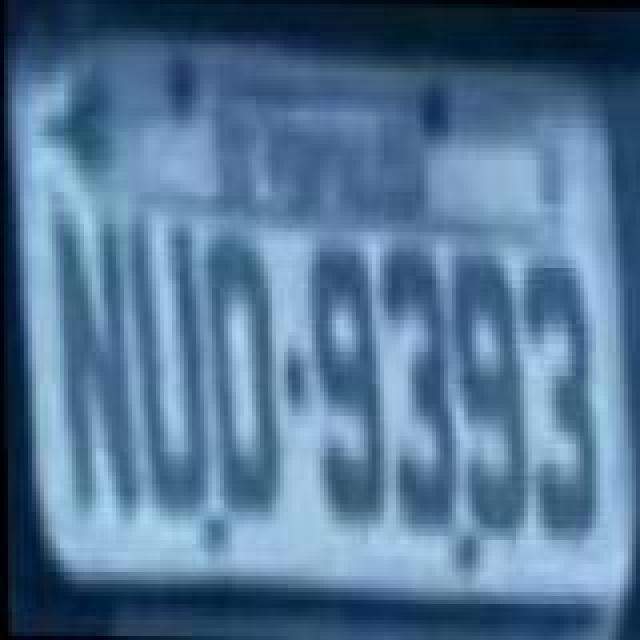3: (376, 248, 460, 528), (516, 262, 600, 538)
9: (442, 252, 530, 540), (304, 246, 388, 526)
D: (200, 238, 284, 530)
N: (50, 204, 150, 516)
U: (126, 218, 210, 514)
